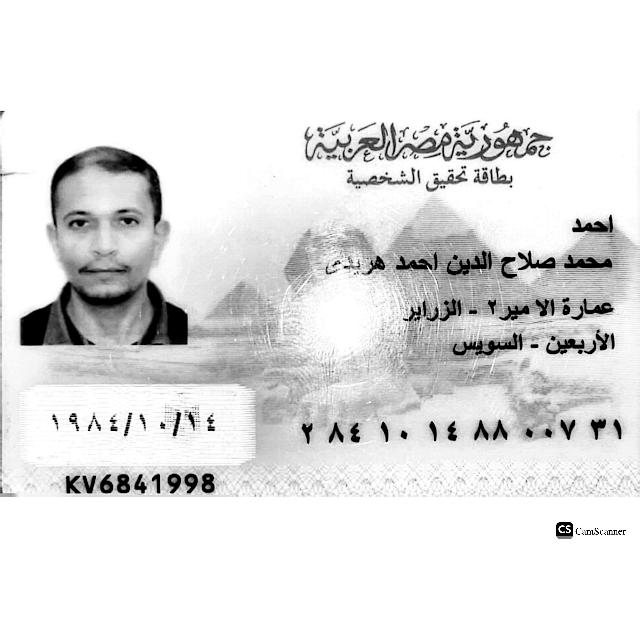id_card: (0, 94, 640, 497)
